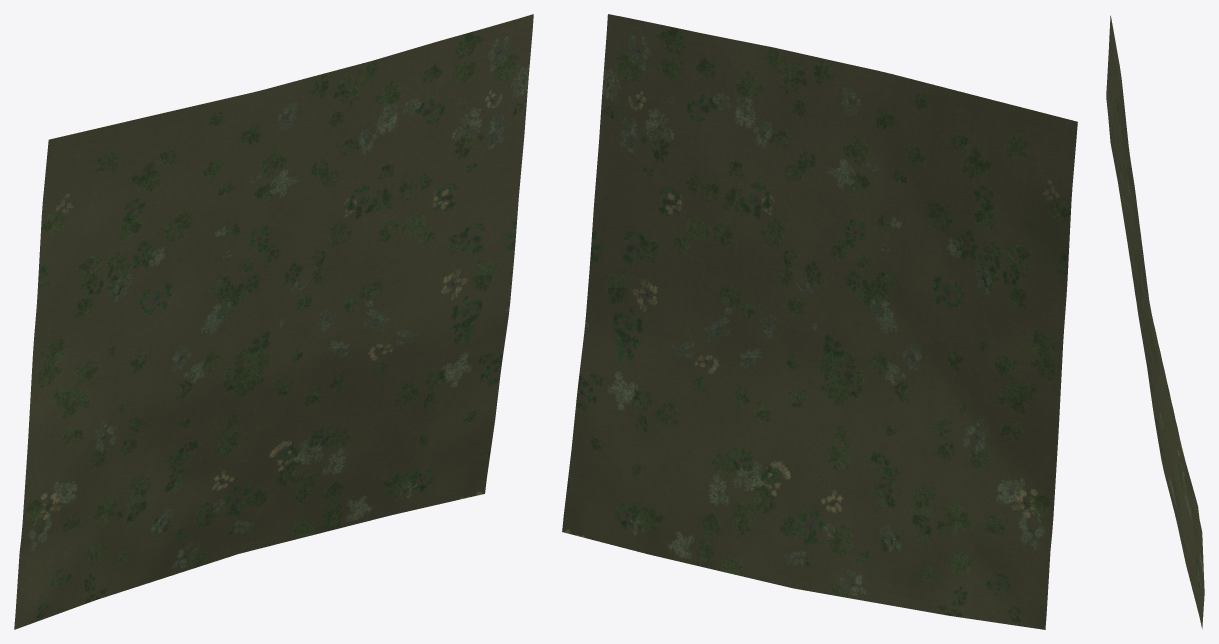
Rendered from terrain_near_02_00.obj.
The picture shows the model from 3 angles, left to right: view 1: azimuth 30°, elevation 25°; view 2: azimuth 150°, elevation 25°; view 3: azimuth 270°, elevation 25°; orthographic projection. The views are drawn at different scales.
Parts seen in each view (by area): view 1: terrain_near_02_00; view 2: terrain_near_02_00; view 3: terrain_near_02_00.
Boxes of the visible parts, bbox=[...] form: terrain_near_02_00: bbox=[14, 14, 533, 629]; terrain_near_02_00: bbox=[562, 14, 1077, 629]; terrain_near_02_00: bbox=[1106, 15, 1204, 628].
Bounding box in the file's own units: 64 × 64 × 13.58.
1 material, 1 textured.
